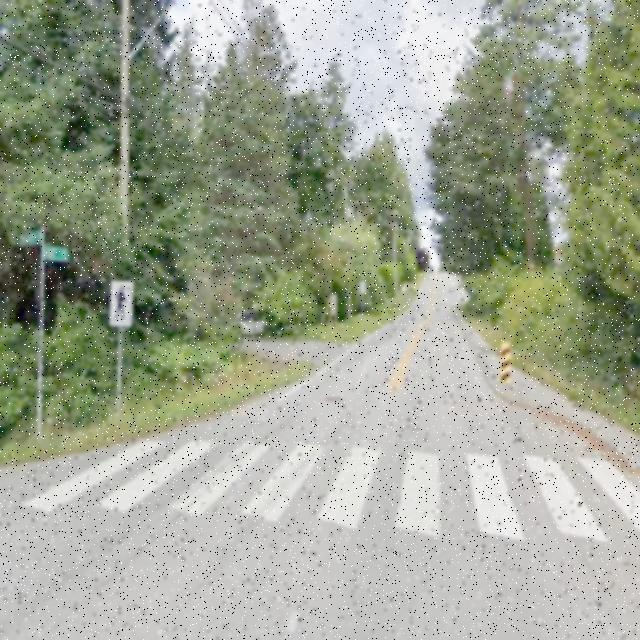crosswalk: (19, 440, 640, 539)
